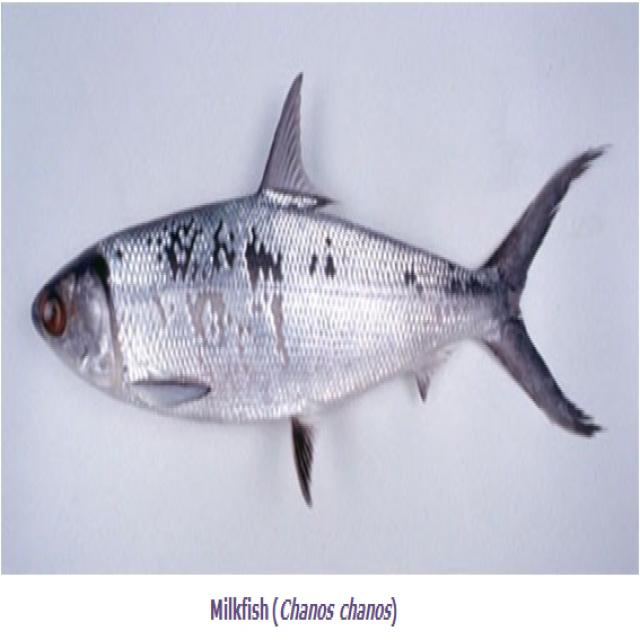Bangus: (15, 40, 618, 531)
